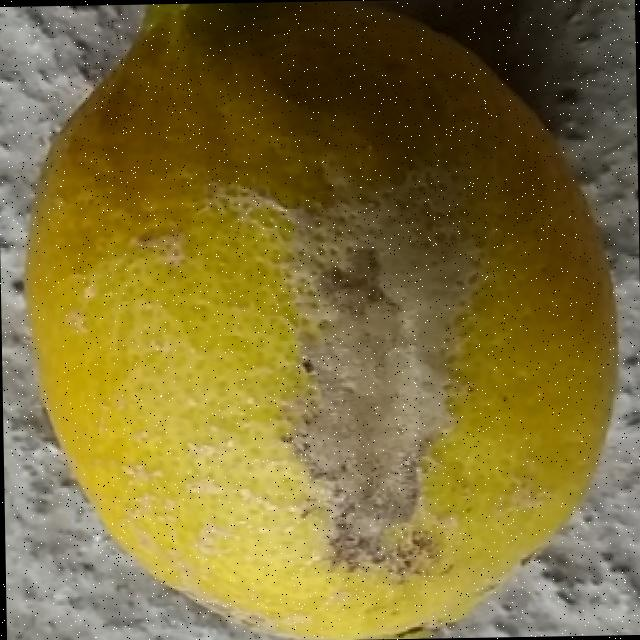overripe: (15, 0, 622, 640)
